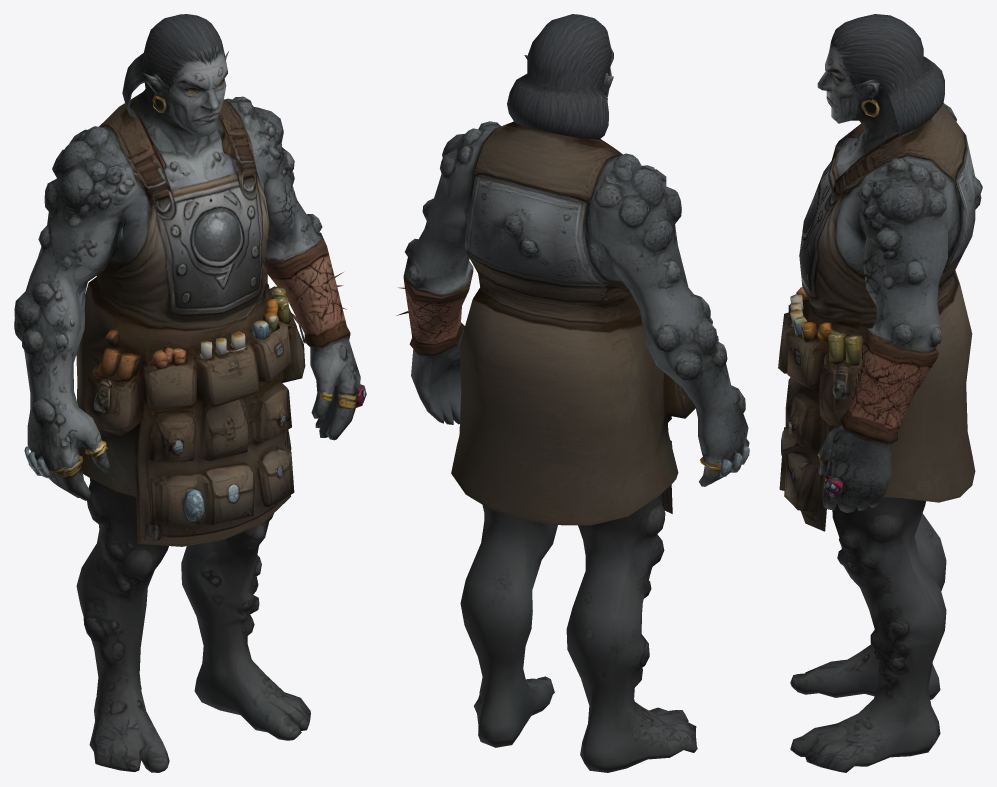
Rendered from selected.glb.
The picture shows the model from 3 angles, left to right: view 1: azimuth 30°, elevation 25°; view 2: azimuth 150°, elevation 25°; view 3: azimuth 270°, elevation 25°; orthographic projection. The views are drawn at different scales.
Visible parts, largest first — view 1: tripo_node_5a6a2dbe-c72a-4fb8-bed0-23dc0e53444d; view 2: tripo_node_5a6a2dbe-c72a-4fb8-bed0-23dc0e53444d; view 3: tripo_node_5a6a2dbe-c72a-4fb8-bed0-23dc0e53444d.
Part boxes in pixels (box(x1,y1,x2,y2)): tripo_node_5a6a2dbe-c72a-4fb8-bed0-23dc0e53444d: box(14, 14, 366, 772); tripo_node_5a6a2dbe-c72a-4fb8-bed0-23dc0e53444d: box(396, 14, 749, 772); tripo_node_5a6a2dbe-c72a-4fb8-bed0-23dc0e53444d: box(778, 14, 982, 772).
Size of the model in its own units: 0.4746 by 0.998 by 0.2637.
Materials: 1 (1 with a texture image).
